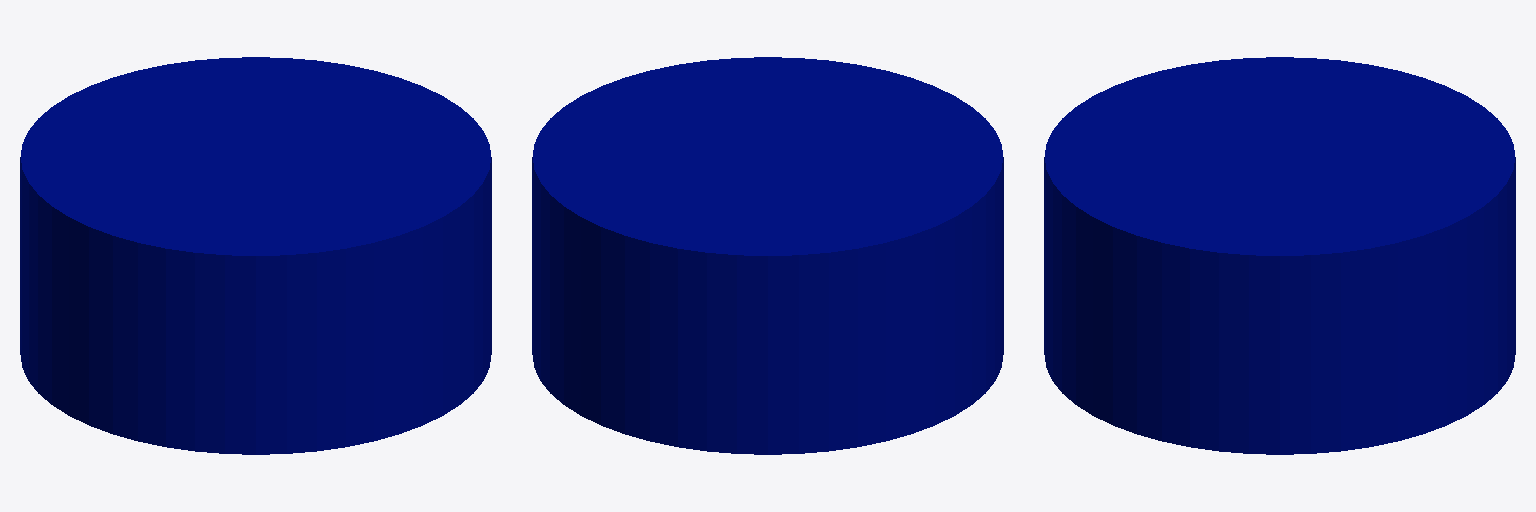
The robot description file, URDF, robot "duran_gl45_100ml_clear__cap":
<?xml version="1.0"?>
<robot name="duran_gl45_100ml_clear__cap">
  <link name="cap">
    <inertial>
      <origin xyz="-1.7463e-18 2.3284e-18 0.0155196" rpy="0 0 0" />
      <mass value="0.0272838" />
      <inertia ixx="9.30604e-06" ixy="0" ixz="0" iyy="9.30604e-06" iyz="0" izz="1.52971e-05" />
    </inertial>
    <visual name="duran_gl45_100ml_clear__cap">
      <origin xyz="0 0 0" rpy="0 0 0" />
      <geometry>
        <mesh filename="../meshes/duran_gl45_100ml_clear__cap.obj" />
      </geometry>
      <material name="mat_duran_gl45_100ml_clear__cap">
        <color rgba="0.01002 0.08354 0.57048 1.000" />
      </material>
    </visual>
    <collision>
      <origin xyz="0 0 0.0255" rpy="0 0 0" />
      <geometry>
        <cylinder radius="0.029" length="0.003" />
      </geometry>
    </collision>
    <collision>
      <origin xyz="0.0261502 0 0.012" rpy="0 0 0" />
      <geometry>
        <box size="0.00569967 0.0122993 0.024" />
      </geometry>
    </collision>
    <collision>
      <origin xyz="0.0241596 0.0100072 0.012" rpy="0 0 0.392699" />
      <geometry>
        <box size="0.00569967 0.0122993 0.024" />
      </geometry>
    </collision>
    <collision>
      <origin xyz="0.018491 0.018491 0.012" rpy="0 0 0.785398" />
      <geometry>
        <box size="0.00569967 0.0122993 0.024" />
      </geometry>
    </collision>
    <collision>
      <origin xyz="0.0100072 0.0241596 0.012" rpy="0 0 1.1781" />
      <geometry>
        <box size="0.00569967 0.0122993 0.024" />
      </geometry>
    </collision>
    <collision>
      <origin xyz="1.60124e-18 0.0261502 0.012" rpy="0 0 1.5708" />
      <geometry>
        <box size="0.00569967 0.0122993 0.024" />
      </geometry>
    </collision>
    <collision>
      <origin xyz="-0.0100072 0.0241596 0.012" rpy="0 0 1.9635" />
      <geometry>
        <box size="0.00569967 0.0122993 0.024" />
      </geometry>
    </collision>
    <collision>
      <origin xyz="-0.018491 0.018491 0.012" rpy="0 0 2.35619" />
      <geometry>
        <box size="0.00569967 0.0122993 0.024" />
      </geometry>
    </collision>
    <collision>
      <origin xyz="-0.0241596 0.0100072 0.012" rpy="0 0 2.74889" />
      <geometry>
        <box size="0.00569967 0.0122993 0.024" />
      </geometry>
    </collision>
    <collision>
      <origin xyz="-0.0261502 3.20247e-18 0.012" rpy="0 0 3.14159" />
      <geometry>
        <box size="0.00569967 0.0122993 0.024" />
      </geometry>
    </collision>
    <collision>
      <origin xyz="-0.0241596 -0.0100072 0.012" rpy="0 0 3.53429" />
      <geometry>
        <box size="0.00569967 0.0122993 0.024" />
      </geometry>
    </collision>
    <collision>
      <origin xyz="-0.018491 -0.018491 0.012" rpy="0 0 3.92699" />
      <geometry>
        <box size="0.00569967 0.0122993 0.024" />
      </geometry>
    </collision>
    <collision>
      <origin xyz="-0.0100072 -0.0241596 0.012" rpy="0 0 4.31969" />
      <geometry>
        <box size="0.00569967 0.0122993 0.024" />
      </geometry>
    </collision>
    <collision>
      <origin xyz="-4.80371e-18 -0.0261502 0.012" rpy="0 0 4.71239" />
      <geometry>
        <box size="0.00569967 0.0122993 0.024" />
      </geometry>
    </collision>
    <collision>
      <origin xyz="0.0100072 -0.0241596 0.012" rpy="0 0 5.10509" />
      <geometry>
        <box size="0.00569967 0.0122993 0.024" />
      </geometry>
    </collision>
    <collision>
      <origin xyz="0.018491 -0.018491 0.012" rpy="0 0 5.49779" />
      <geometry>
        <box size="0.00569967 0.0122993 0.024" />
      </geometry>
    </collision>
    <collision>
      <origin xyz="0.0241596 -0.0100072 0.012" rpy="0 0 5.89049" />
      <geometry>
        <box size="0.00569967 0.0122993 0.024" />
      </geometry>
    </collision>
  </link>
</robot>

--- What the picture shows (computed from the rendered views, not written in the file) ---
The picture shows the robot from 3 angles, left to right: view 1: azimuth 30°, elevation 25°; view 2: azimuth 150°, elevation 25°; view 3: azimuth 270°, elevation 25°; orthographic projection.
Robot: duran_gl45_100ml_clear__cap — 1 links, 0 joints (none); root link cap; default pose: all joints at 0.
Visible links, largest first — view 1: cap; view 2: cap; view 3: cap.
Boxes of the visible links, box(x1,y1,x2,y2) form: cap: box(20, 57, 491, 454); cap: box(532, 57, 1003, 454); cap: box(1044, 57, 1515, 454).
Bounding box of the posed robot: 0.058 × 0.058 × 0.027 m (x, y, z).
1 mesh visuals loaded from 1 distinct referenced files (1 OBJ).
